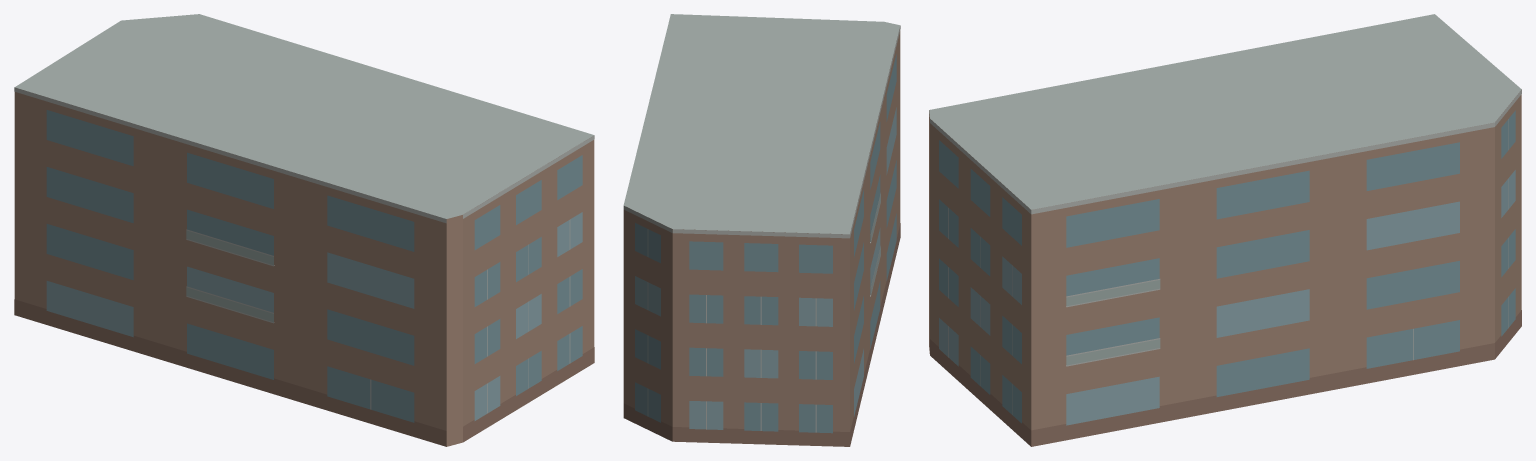
File: survey-upis-32737592.glb
3 renders of one model, left to right at view 1: azimuth 30°, elevation 25°; view 2: azimuth 150°, elevation 25°; view 3: azimuth 270°, elevation 25°, orthographic. The views are drawn at different scales.
Visible parts, largest first — view 1: survey-upis-32737592.tmp; view 2: survey-upis-32737592.tmp; view 3: survey-upis-32737592.tmp.
Boxes of the visible parts, <box> form: survey-upis-32737592.tmp: <box>14,14,594,446</box>; survey-upis-32737592.tmp: <box>623,14,900,446</box>; survey-upis-32737592.tmp: <box>929,14,1521,446</box>.
Size of the model in its own units: 22.7 by 12.8 by 29.02.
